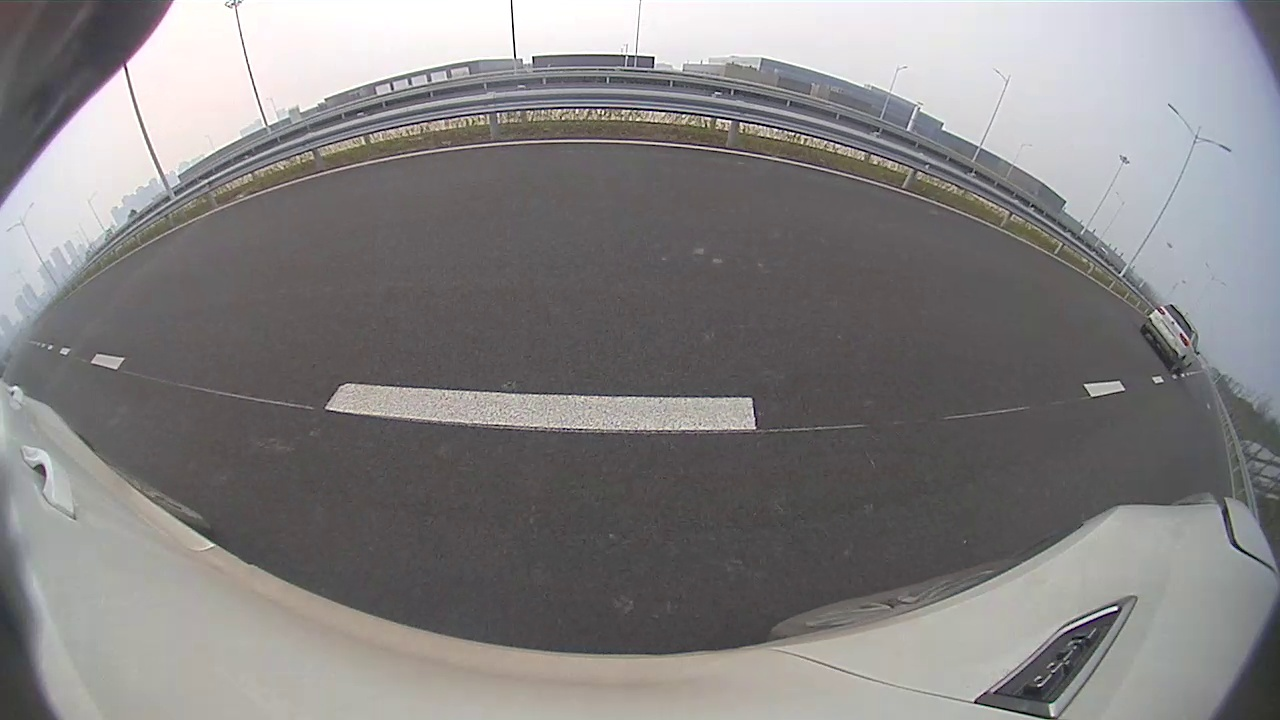car: (1140, 303, 1201, 371)
